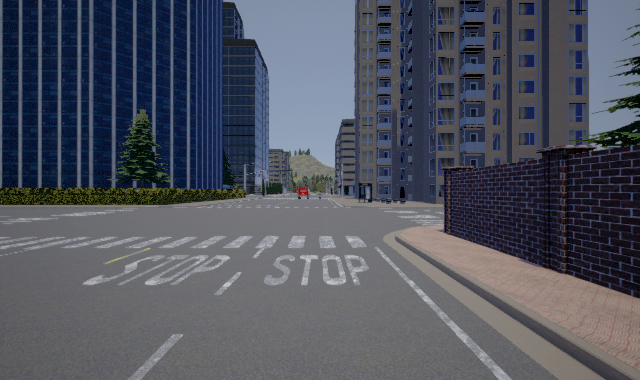traffic_light: (338, 172, 341, 176), (340, 183, 342, 187)
vehicle: (297, 186, 311, 199)
